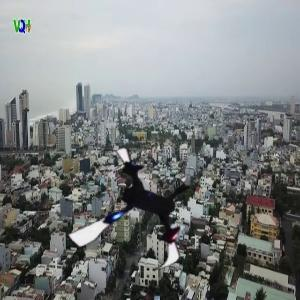drone: (63, 142, 205, 284)
